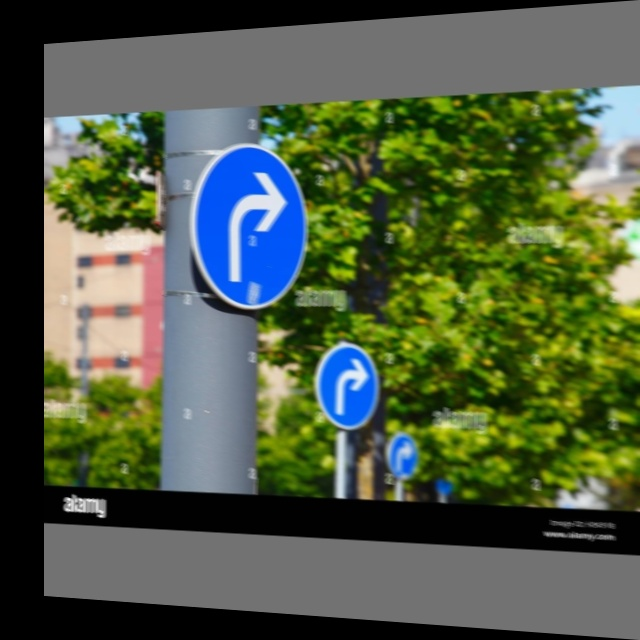Compulsory_Turn_Right_Ahead: (193, 142, 302, 308)
